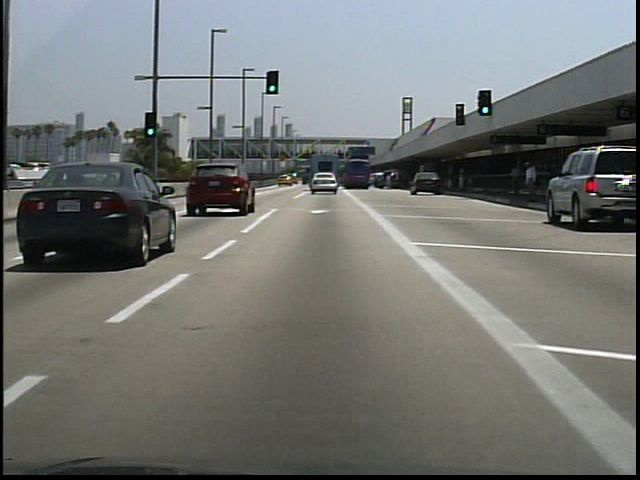person: (520, 157, 540, 206)
